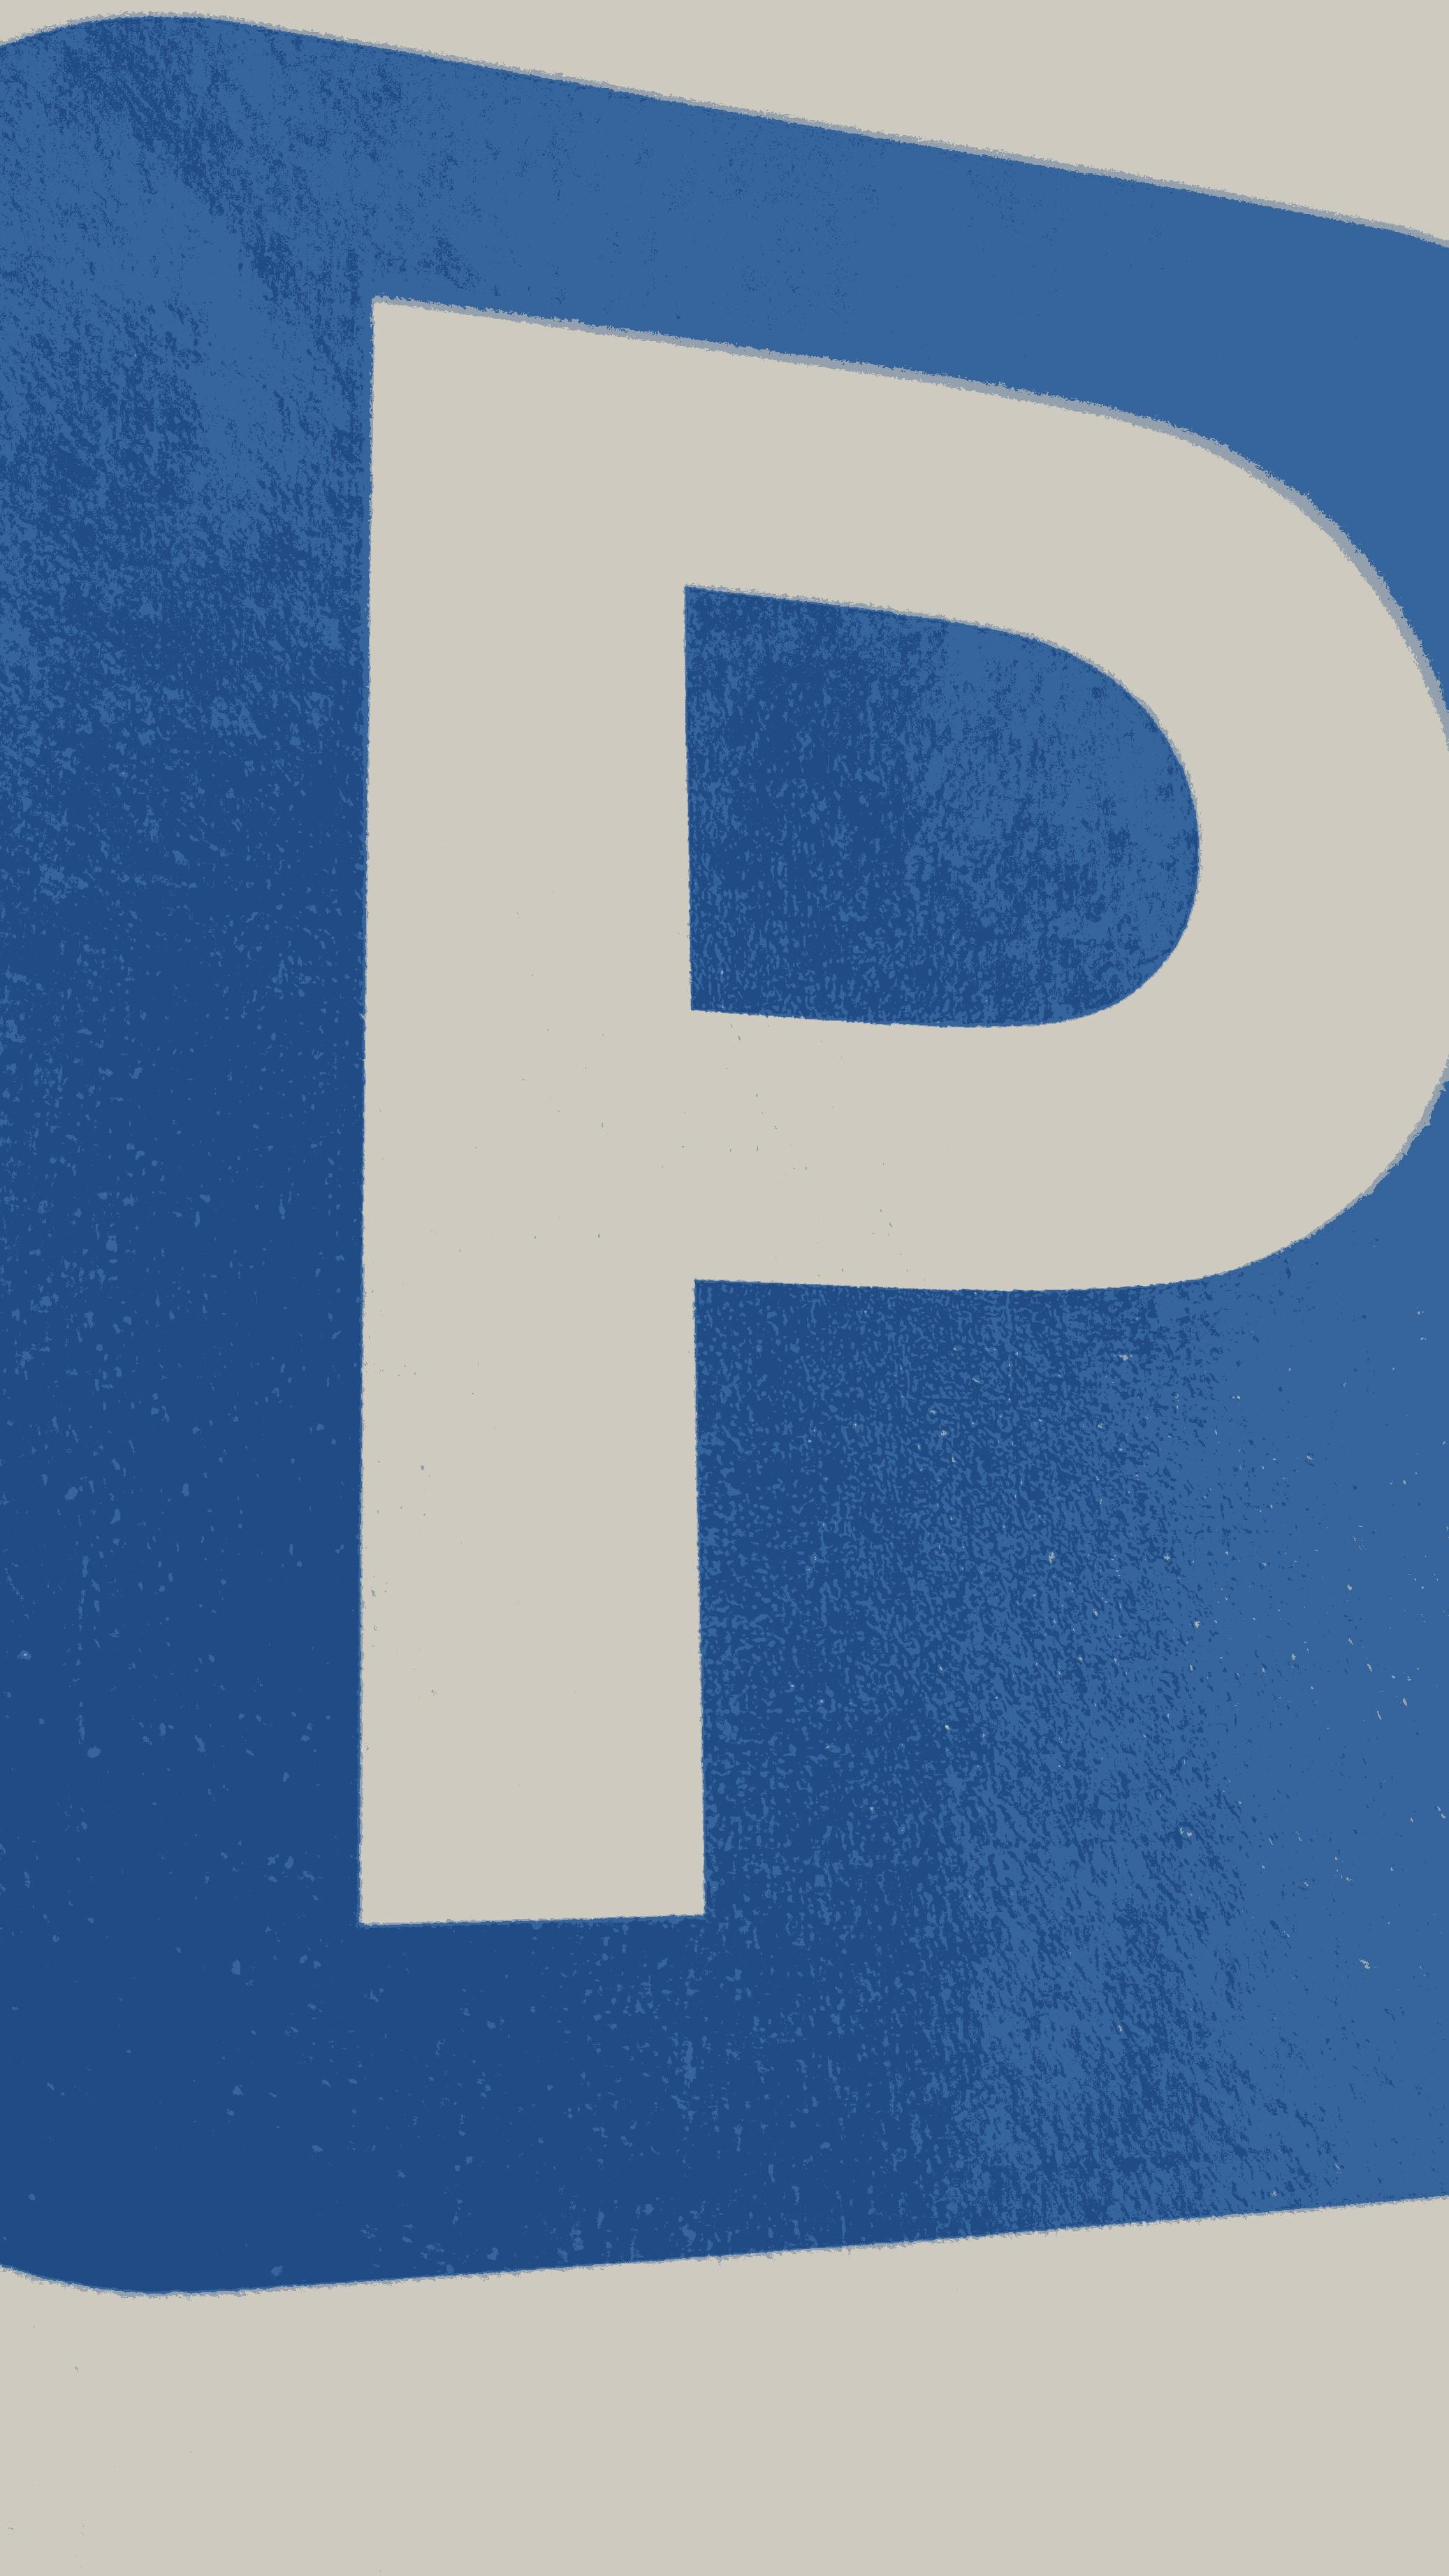parking: (0, 21, 1449, 2286)
